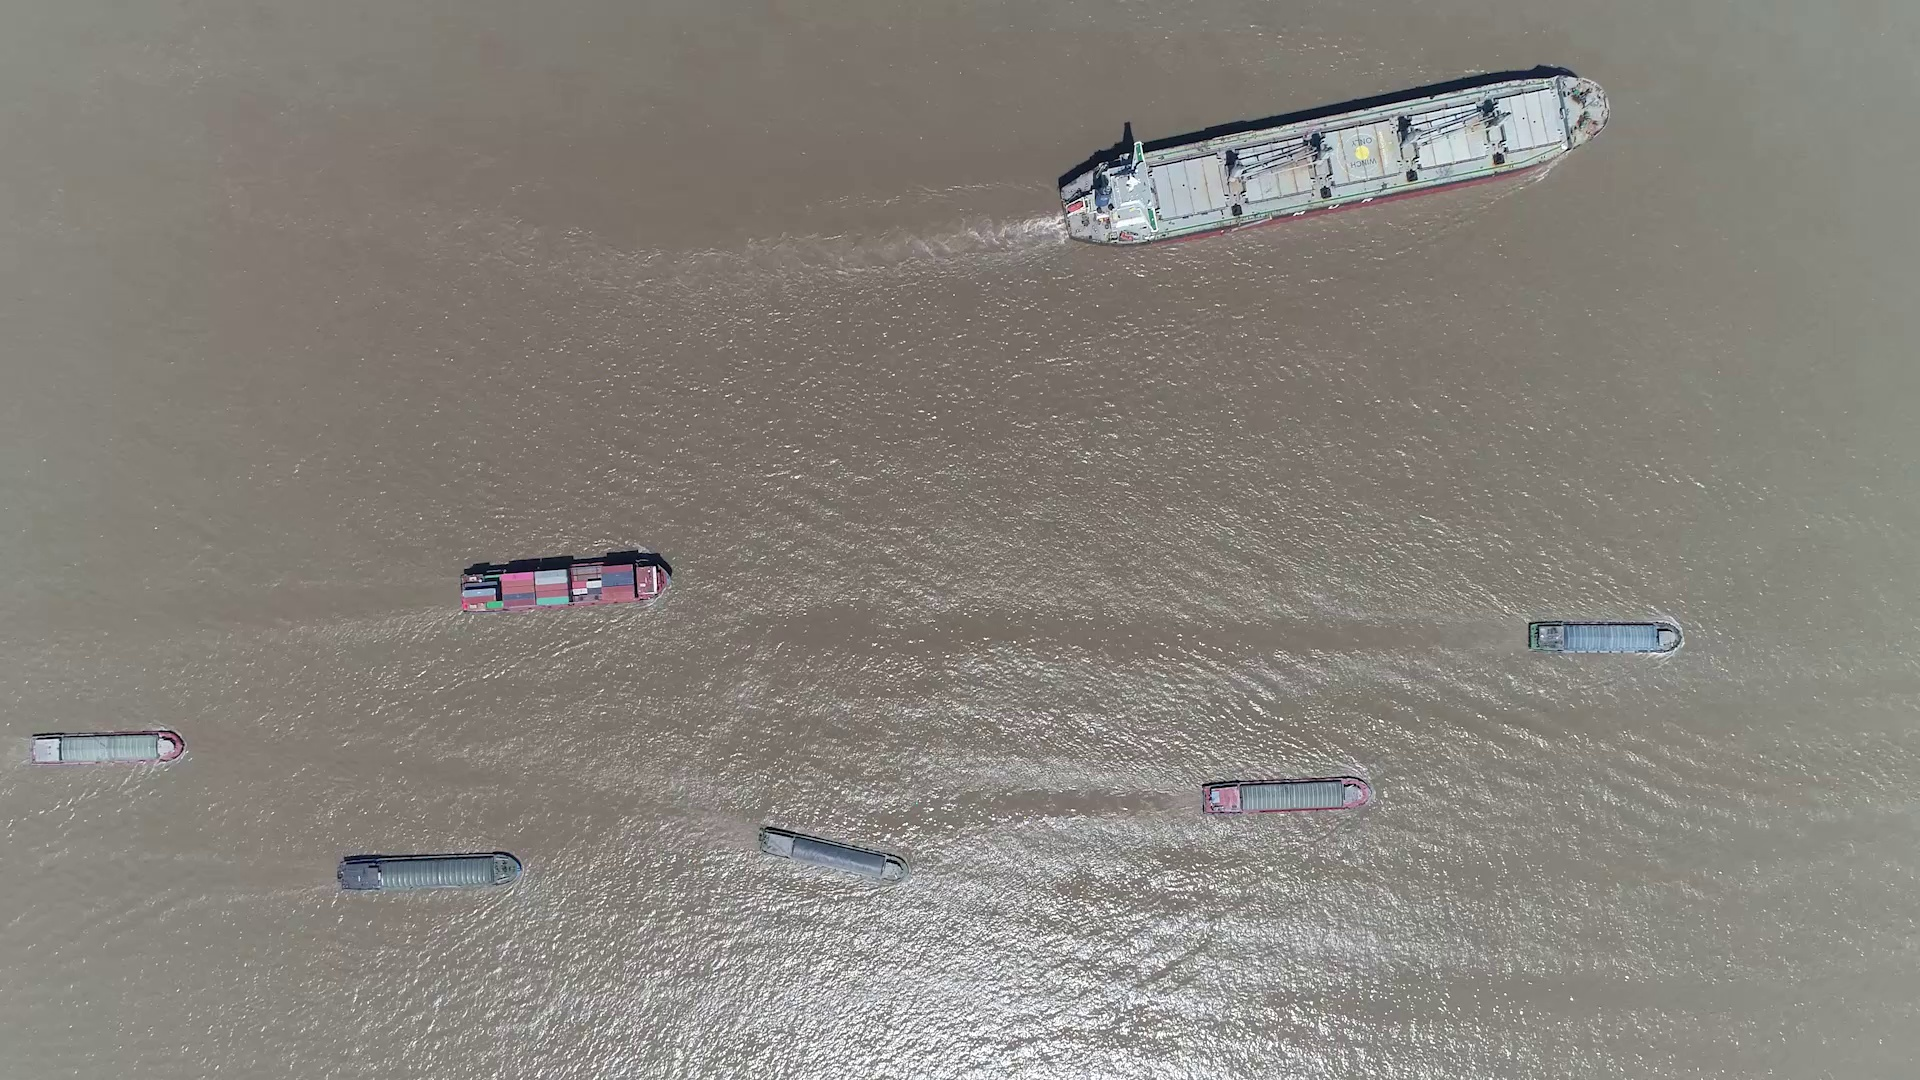ship: (1058, 80, 1611, 244), (462, 558, 673, 613), (758, 828, 907, 882), (338, 852, 524, 890), (1205, 775, 1371, 814), (1527, 620, 1683, 655), (29, 732, 186, 766)
